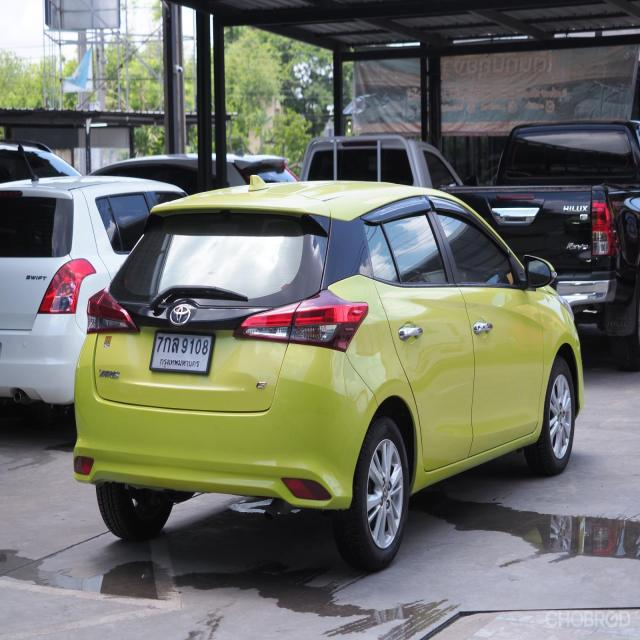license_plate: (148, 323, 217, 381)
